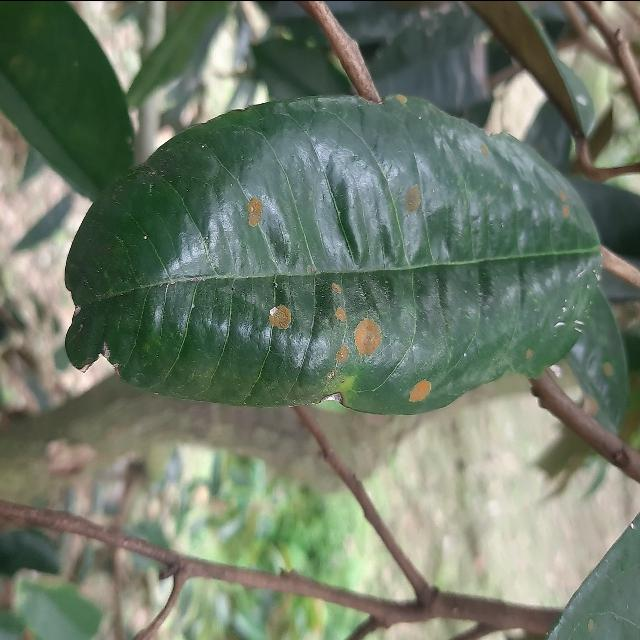Algal Leaf Spot: (51, 87, 607, 423)
